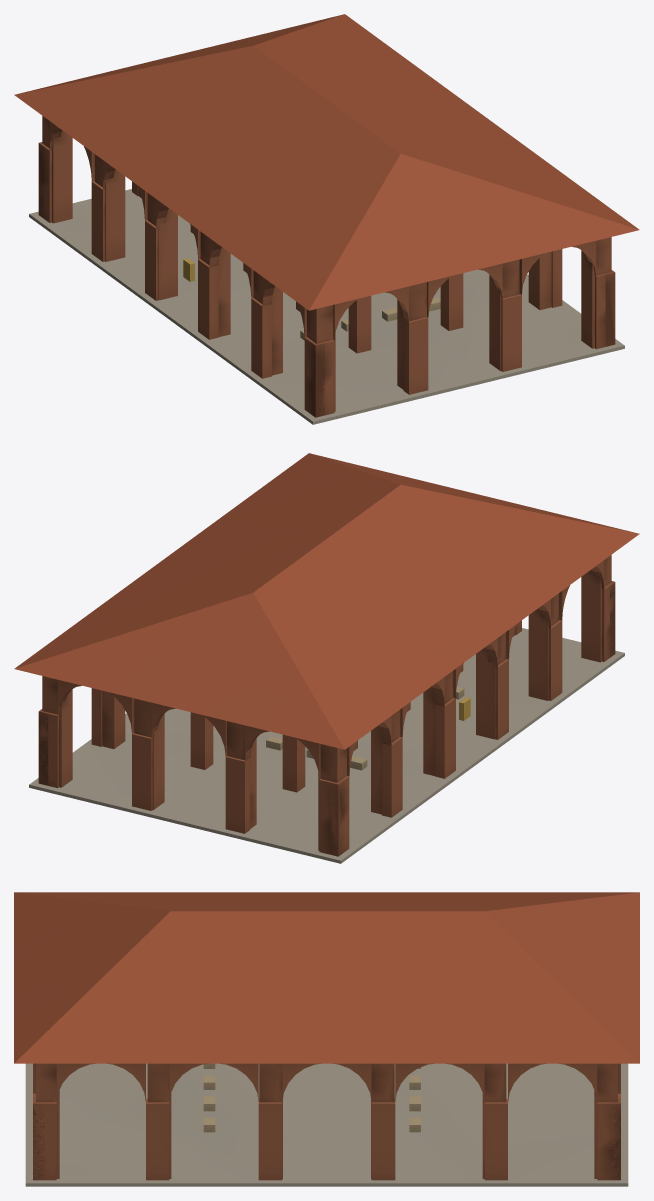
File: orsanmichele-loggia.glb
3 views of the same model, one above another, from view 1: azimuth 30°, elevation 25°; view 2: azimuth 150°, elevation 25°; view 3: azimuth 270°, elevation 25° (orthographic). The views are drawn at different scales.
Parts seen in each view (by area): view 1: p1_roof, p0_piers; view 2: p1_roof, p0_piers; view 3: p1_roof, p0_piers.
Part boxes in pixels (x1,y1,x2,y2): p1_roof: (14, 14, 639, 310); p0_piers: (29, 116, 624, 424); p1_roof: (14, 453, 639, 749); p0_piers: (29, 555, 624, 863); p1_roof: (14, 892, 639, 1063); p0_piers: (25, 1063, 628, 1186).
Size of the model in its own units: 27.6 by 14.6 by 42.6.
